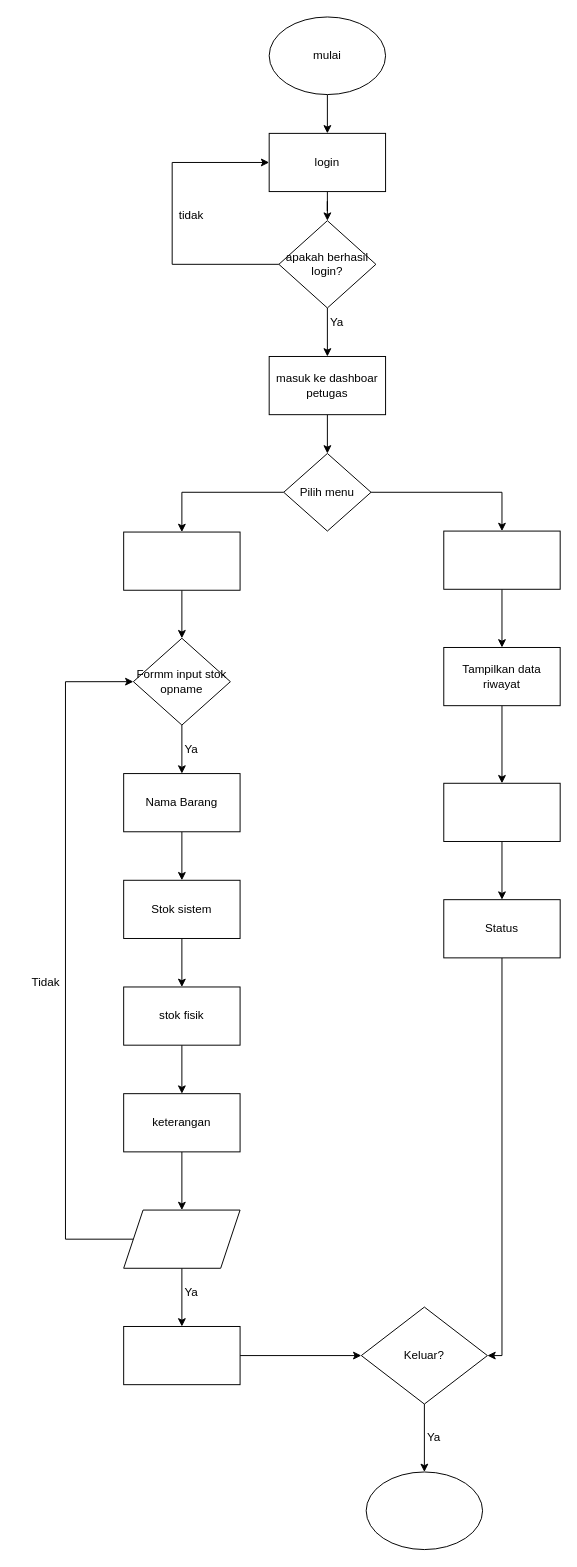
Some shapes in this 577 by 1567 pixel diagram are drawn without their labels. The centre of each missing label's shape, as x and y in pixels:
"Cari data" goes at [501,811].
"Input Stok Opname" goes at [181,560].
"Riwayat Stok" goes at [501,559].
"Selesai" goes at [424,1510].
"Simpan" goes at [181,1238].
"Stok tersimpan ke database" goes at [181,1355].
